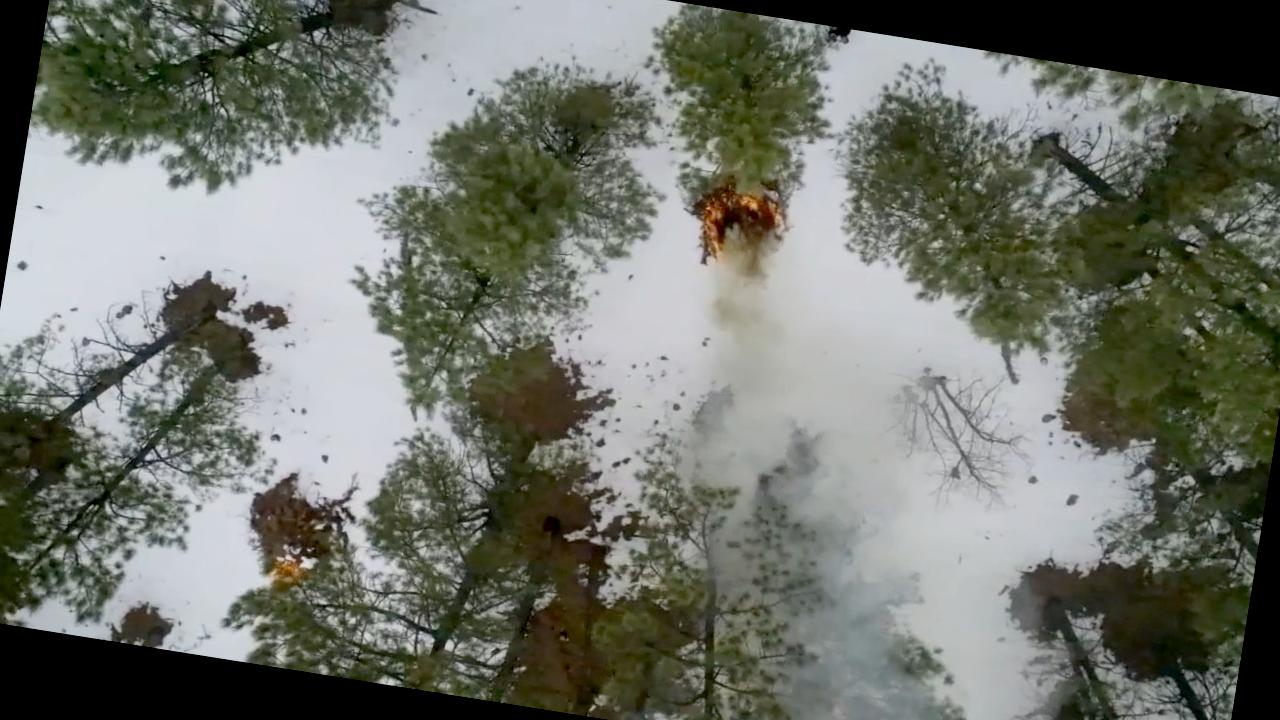fire: (676, 170, 786, 284)
smoke: (659, 397, 864, 588), (732, 581, 952, 720)
